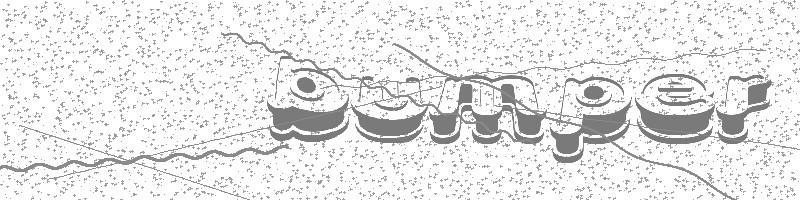b: (265, 54, 351, 144)
e: (634, 72, 715, 145)
m: (428, 75, 546, 148)
p: (549, 76, 631, 164)
r: (716, 73, 775, 145)
u: (352, 76, 426, 147)
